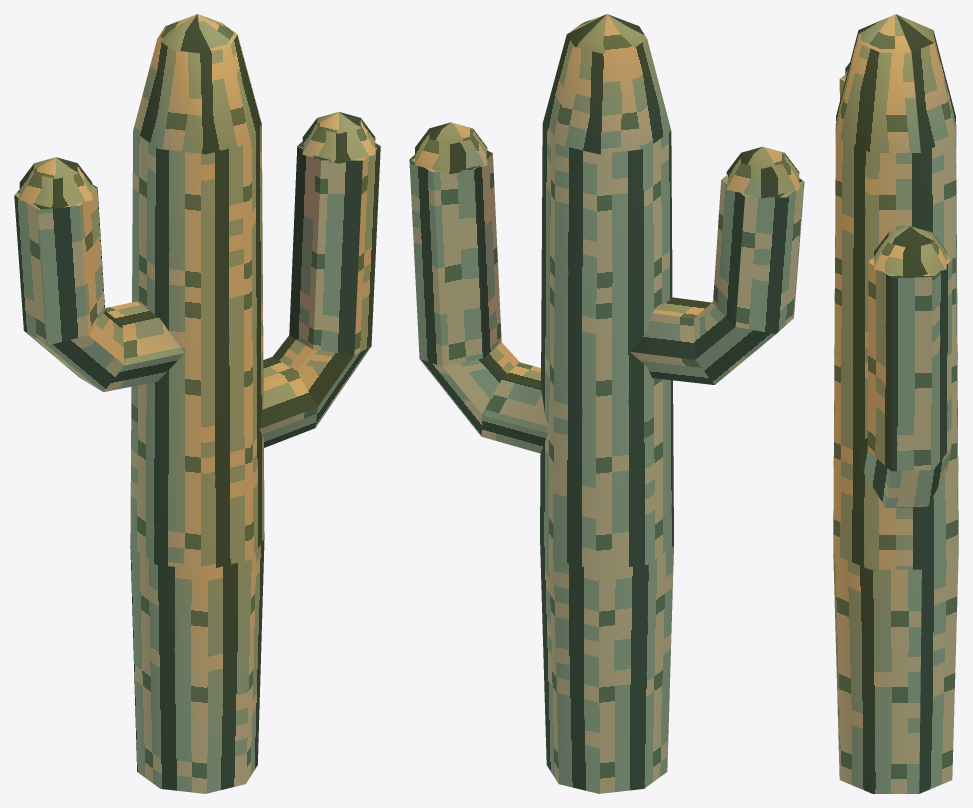
Rendered from wprop.cactus__tall.glb.
The picture shows the model from 3 angles, left to right: view 1: azimuth 30°, elevation 25°; view 2: azimuth 150°, elevation 25°; view 3: azimuth 270°, elevation 25°; orthographic projection.
Parts seen in each view (by area): view 1: kit_trunk, kit_arms, kit_tips; view 2: kit_trunk, kit_arms, kit_tips; view 3: kit_trunk, kit_arms, kit_tips.
Part boxes in pixels (x1,y1,x2,y2): kit_trunk: [130, 14, 264, 793]; kit_arms: [14, 141, 380, 447]; kit_tips: [19, 112, 375, 208]; kit_trunk: [540, 14, 673, 793]; kit_arms: [409, 150, 804, 453]; kit_tips: [415, 122, 799, 198]; kit_trunk: [833, 14, 958, 793]; kit_arms: [839, 75, 952, 507]; kit_tips: [845, 62, 946, 278].
Size of the model in its own units: 2.36 by 4.6 by 0.6906.
Materials: 1 (1 with a texture image).
